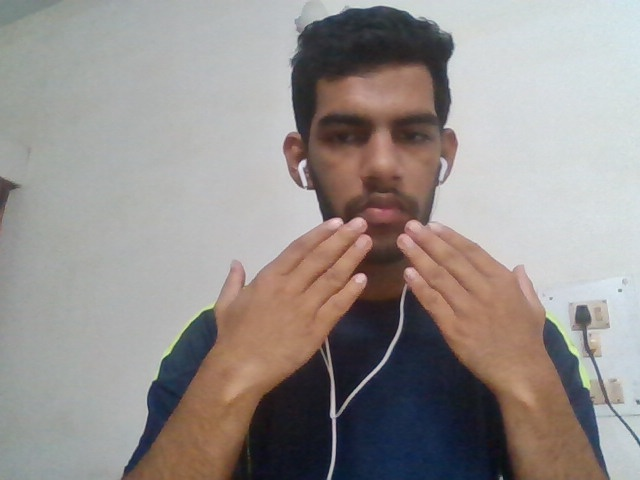thanks: (215, 210, 582, 385)
